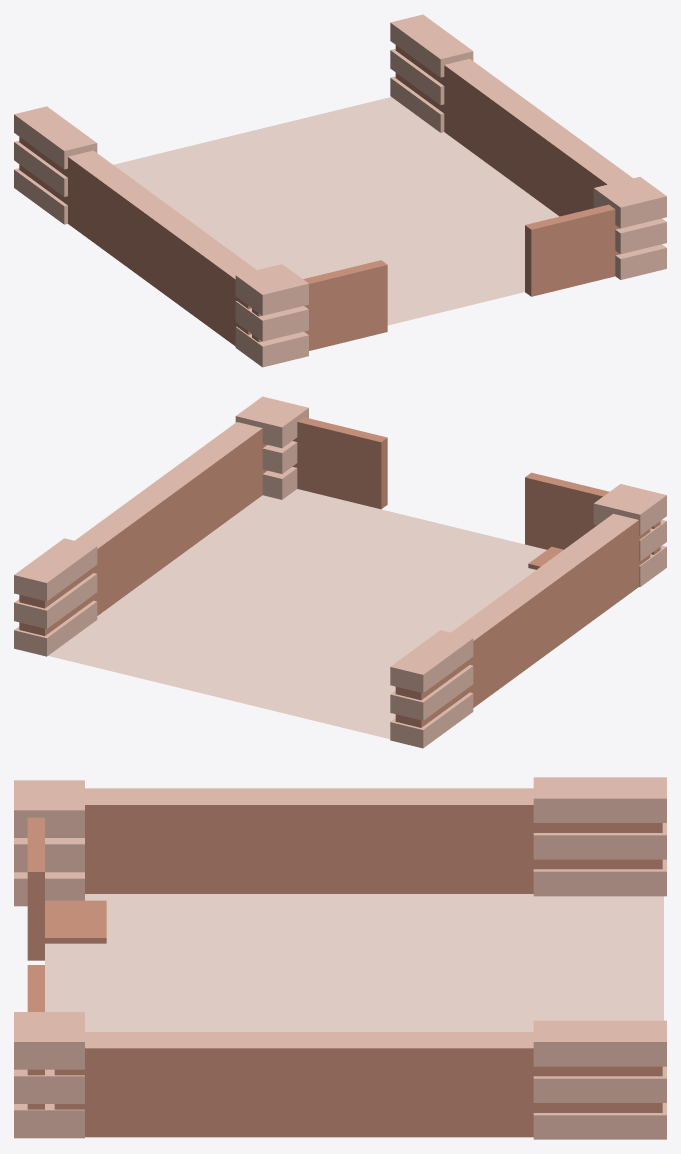
The model's file is KneadField.fbx.
3 views of the same model, one above another, from view 1: azimuth 30°, elevation 25°; view 2: azimuth 150°, elevation 25°; view 3: azimuth 270°, elevation 25° (orthographic). The views are drawn at different scales.
Visible parts, largest first — view 1: Cube.001, Plane; view 2: Plane, Cube.001; view 3: Cube.001, Plane, Cube.026.
Part boxes in pixels (x1,y1,x2,y2): Cube.001: (14,14,666,367); Plane: (113,97,559,325); Plane: (48,489,546,739); Cube.001: (14,396,666,748); Cube.001: (14,777,666,1139); Plane: (45,894,663,1031); Cube.026: (45,900,106,943).
Size of the model in its own units: 1107 by 190 by 1154.
